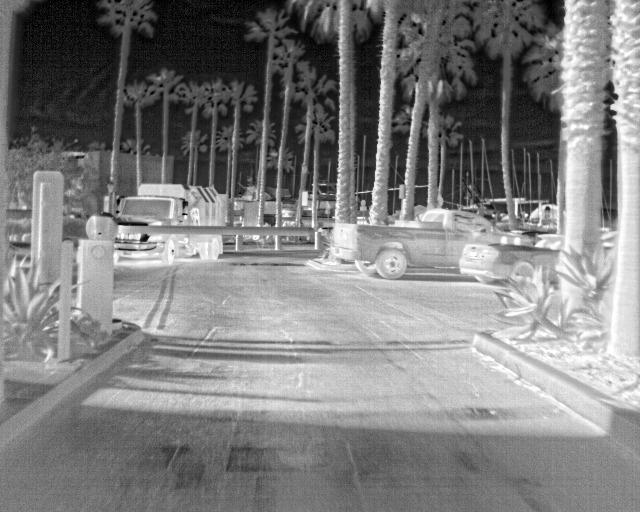car: (331, 208, 533, 280), (459, 233, 561, 285)
